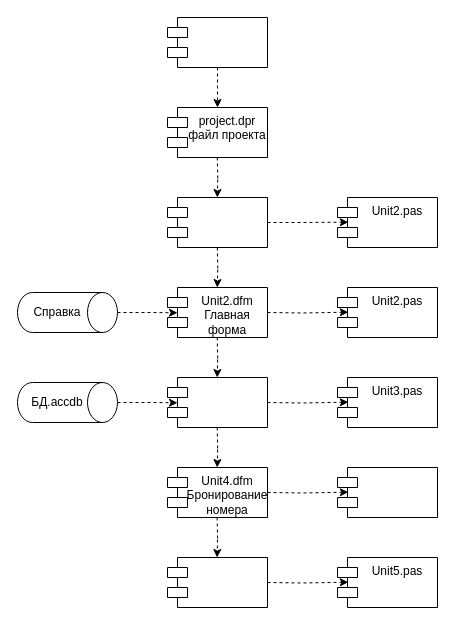
This 455x625 diagram has some shape labels left out. Each missing label, with the centre of its shape:
project.exe: [217,42]
Unit1.dfm Заставка: [217,222]
Unit3.dfm База данных: [217,402]
Unit4.pas: [387,492]
Unit5.dfm Конец: [217,582]
